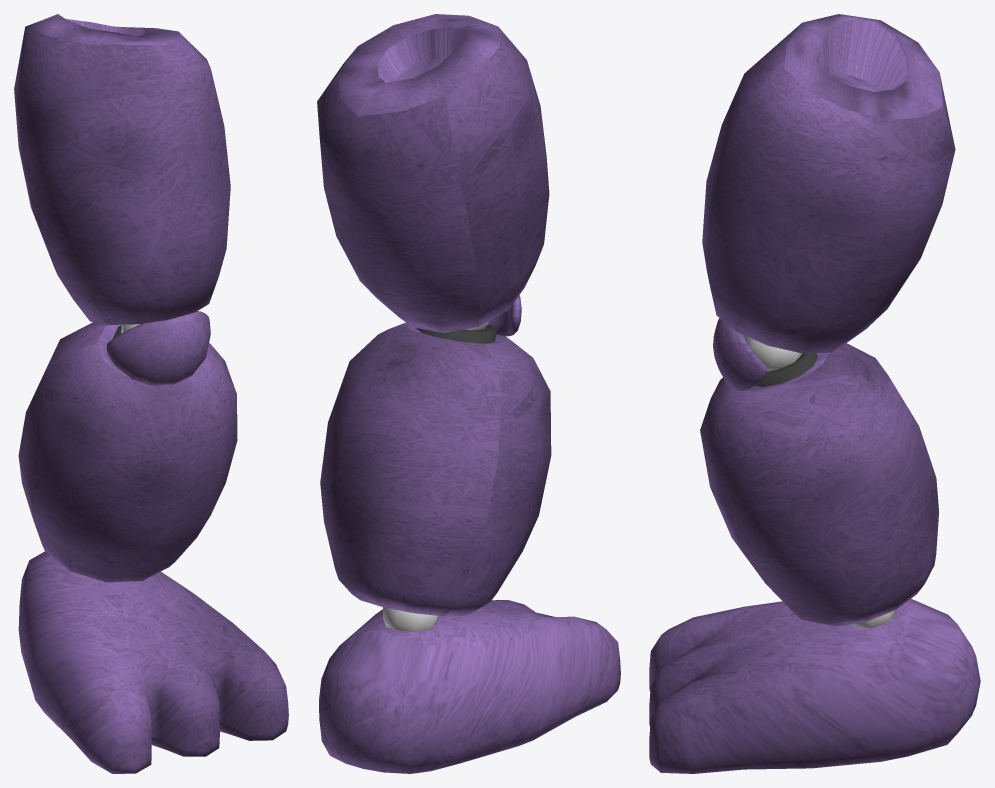
File: pDerBunny.obj
3 renders of one model, left to right at view 1: azimuth 30°, elevation 25°; view 2: azimuth 150°, elevation 25°; view 3: azimuth 270°, elevation 25°, orthographic. The views are drawn at different scales.
Visible parts, largest first — view 1: Object_14.004; view 2: Object_14.004, Object_8.004; view 3: Object_14.004, Object_8.004.
Boxes of the visible parts, x1,y1,x2,y2 form: Object_14.004: (14,14,288,773); Object_14.004: (317,14,620,773); Object_8.004: (383,321,496,632); Object_14.004: (649,14,980,773); Object_8.004: (743,335,895,627).
Bounding box in the file's own units: 0.821 × 2.68 × 1.15.
2 materials, 2 textured.
